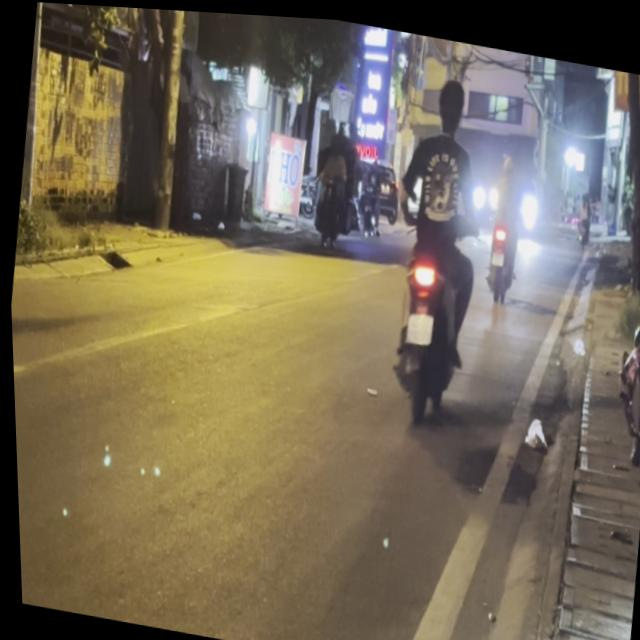licenseplate: (366, 59, 502, 427)
motorcyclist: (430, 68, 467, 129)
nohelmet: (402, 307, 431, 341)
